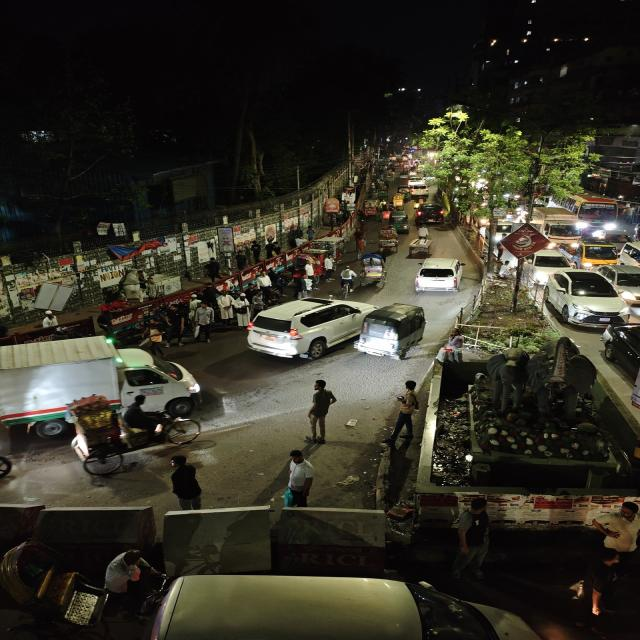bus: (568, 194, 620, 232)
car: (244, 294, 366, 362), (543, 270, 628, 325), (412, 256, 468, 294), (594, 264, 639, 302), (515, 249, 574, 273), (414, 203, 447, 225), (619, 240, 640, 269), (405, 180, 430, 192), (406, 177, 427, 187)
cng: (356, 302, 428, 360), (359, 250, 388, 284), (389, 212, 410, 232)
motorcycle: (336, 265, 358, 295)
pedestrian: (564, 568, 625, 620), (596, 510, 640, 578), (278, 446, 318, 508), (165, 454, 208, 511), (303, 378, 337, 442), (388, 376, 417, 443), (206, 284, 237, 320), (162, 306, 189, 347), (191, 303, 216, 343), (216, 288, 241, 326), (141, 323, 168, 357), (287, 268, 312, 300), (251, 271, 277, 300), (232, 290, 251, 324), (337, 266, 358, 296)
pickup_van: (570, 237, 624, 269)
rickshaw: (0, 539, 158, 640), (58, 394, 207, 477), (359, 251, 388, 285), (376, 226, 400, 254), (406, 234, 434, 258), (360, 200, 379, 220), (390, 195, 406, 209)
truck: (0, 334, 208, 413), (542, 207, 582, 246)
